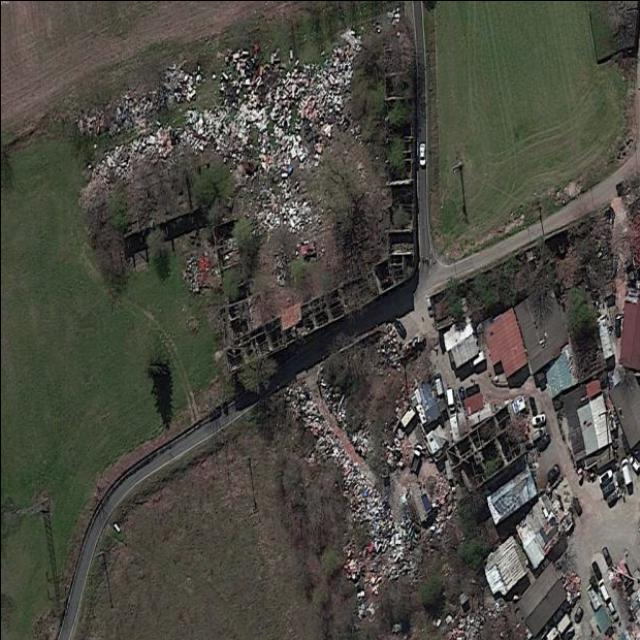dump_site: (203, 0, 384, 258), (277, 351, 423, 584), (74, 100, 216, 212), (76, 52, 207, 147), (447, 590, 509, 640), (374, 318, 409, 380)
